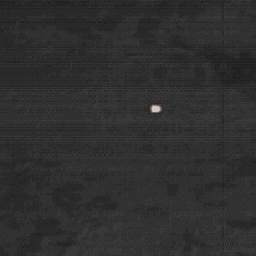Target: (149, 103, 162, 114)
